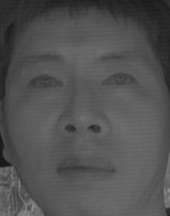eye: (25, 69, 66, 96), (98, 69, 139, 91)
mouth: (54, 151, 121, 188)
